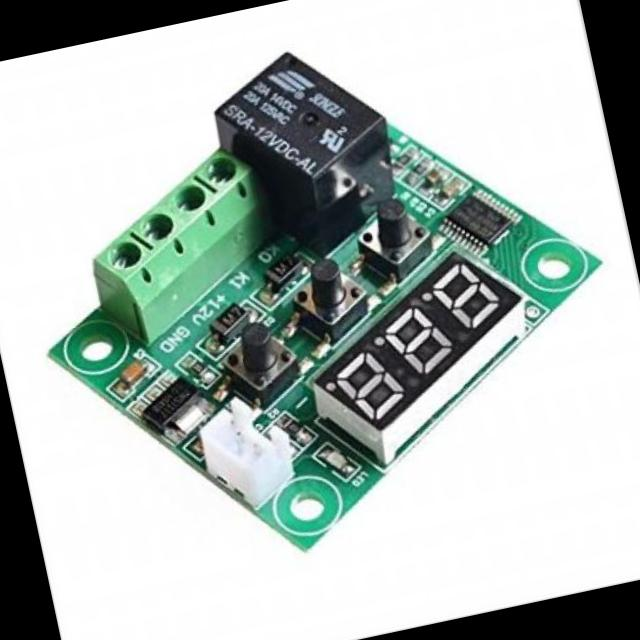IC: (130, 363, 208, 438), (438, 186, 520, 254)
LED: (317, 440, 358, 486)
capacitor: (112, 348, 158, 394), (434, 173, 474, 204), (420, 165, 448, 186)
connector: (78, 144, 292, 308), (195, 382, 296, 498)
diode: (260, 240, 310, 294), (207, 296, 259, 340)
resistor: (278, 406, 310, 444), (182, 350, 211, 382), (388, 144, 418, 171), (409, 157, 440, 180)
